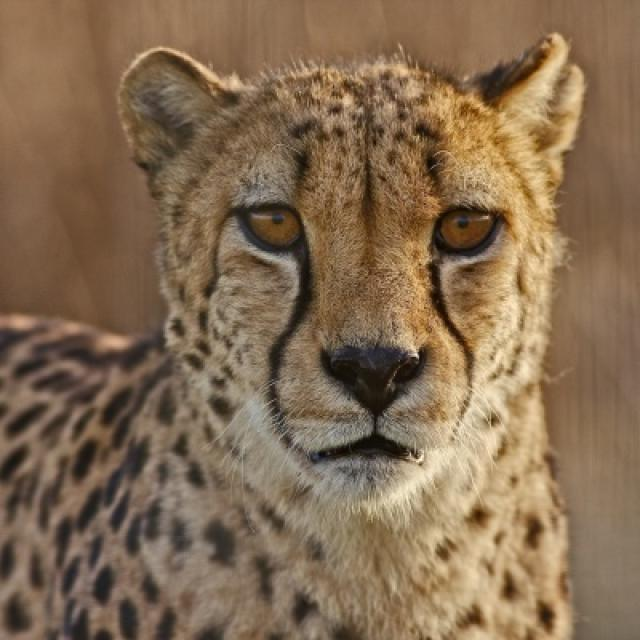Cheetah: (0, 32, 589, 638)
